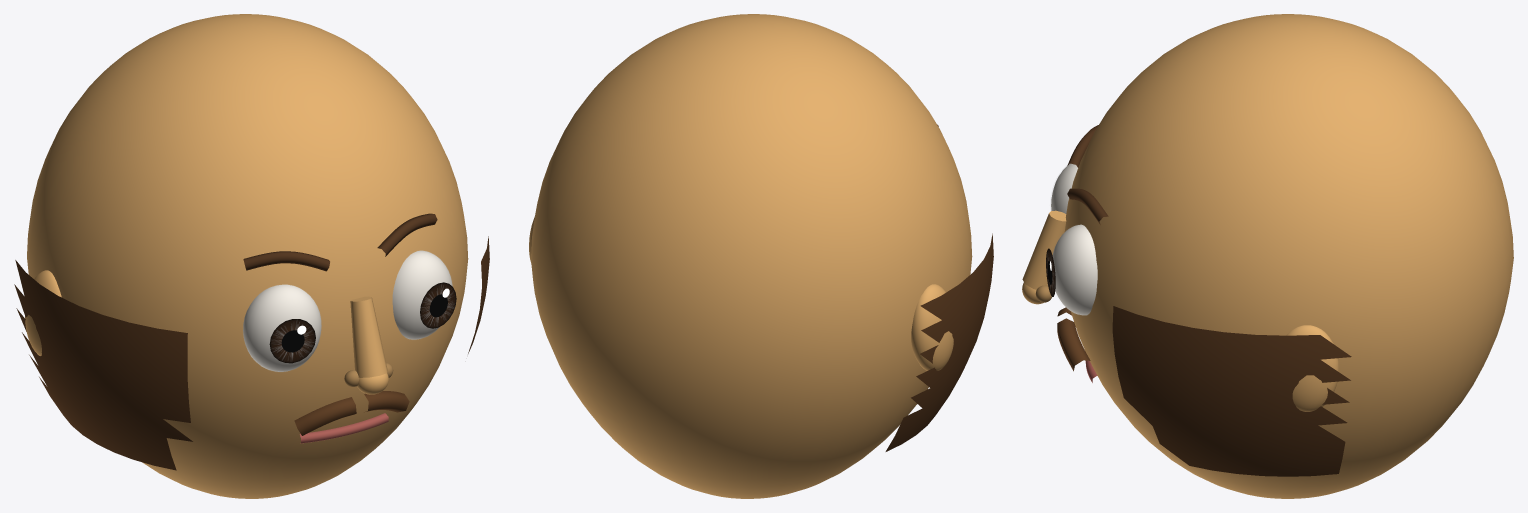
The model's file is 07-favoris.glb.
3 views of the same model, side by side, from view 1: azimuth 30°, elevation 25°; view 2: azimuth 150°, elevation 25°; view 3: azimuth 270°, elevation 25° (orthographic).
Bounding box in the file's own units: 0.3115 × 0.321 × 0.3166.
Materials: 10 (1 with a texture image).
